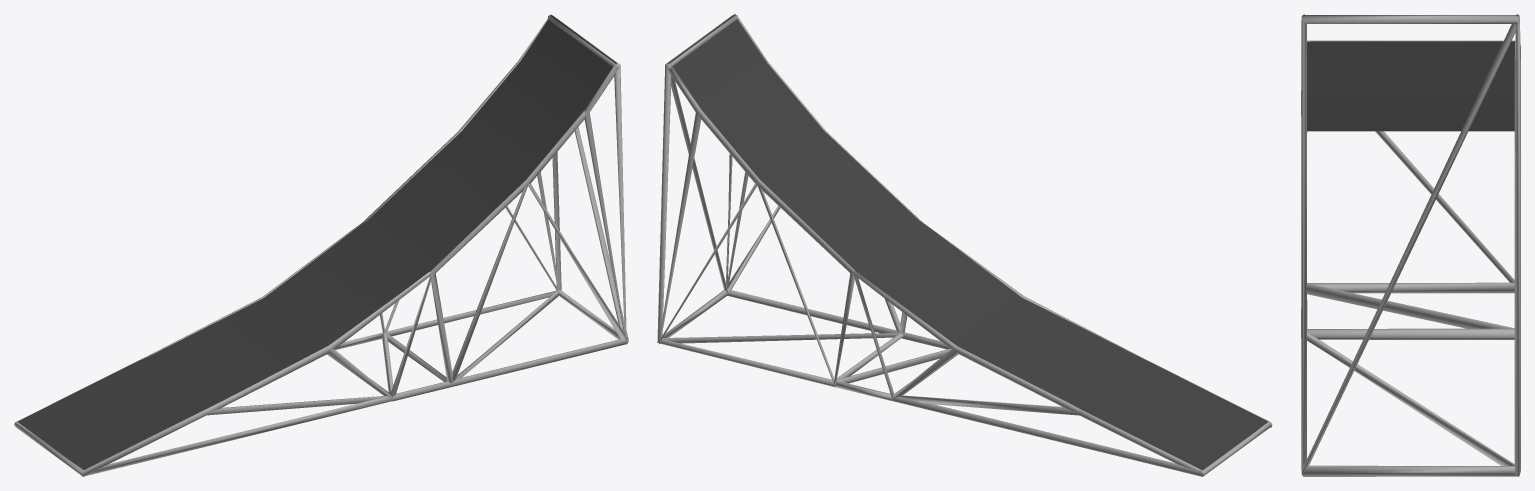
File: DirtBikeTrackJumpRamp.glb
3 views of the same model, side by side, from view 1: azimuth 30°, elevation 25°; view 2: azimuth 150°, elevation 25°; view 3: azimuth 270°, elevation 25° (orthographic). The views are drawn at different scales.
Visible parts, largest first — view 1: DirtBikeTrackJumpRamp; view 2: DirtBikeTrackJumpRamp; view 3: DirtBikeTrackJumpRamp.
Part boxes in pixels (x1,y1,x2,y2): DirtBikeTrackJumpRamp: [14, 14, 628, 476]; DirtBikeTrackJumpRamp: [657, 14, 1272, 476]; DirtBikeTrackJumpRamp: [1301, 14, 1520, 476].
Size of the model in its own units: 7.55 by 3.74 by 1.63.
1 material, 1 textured.
